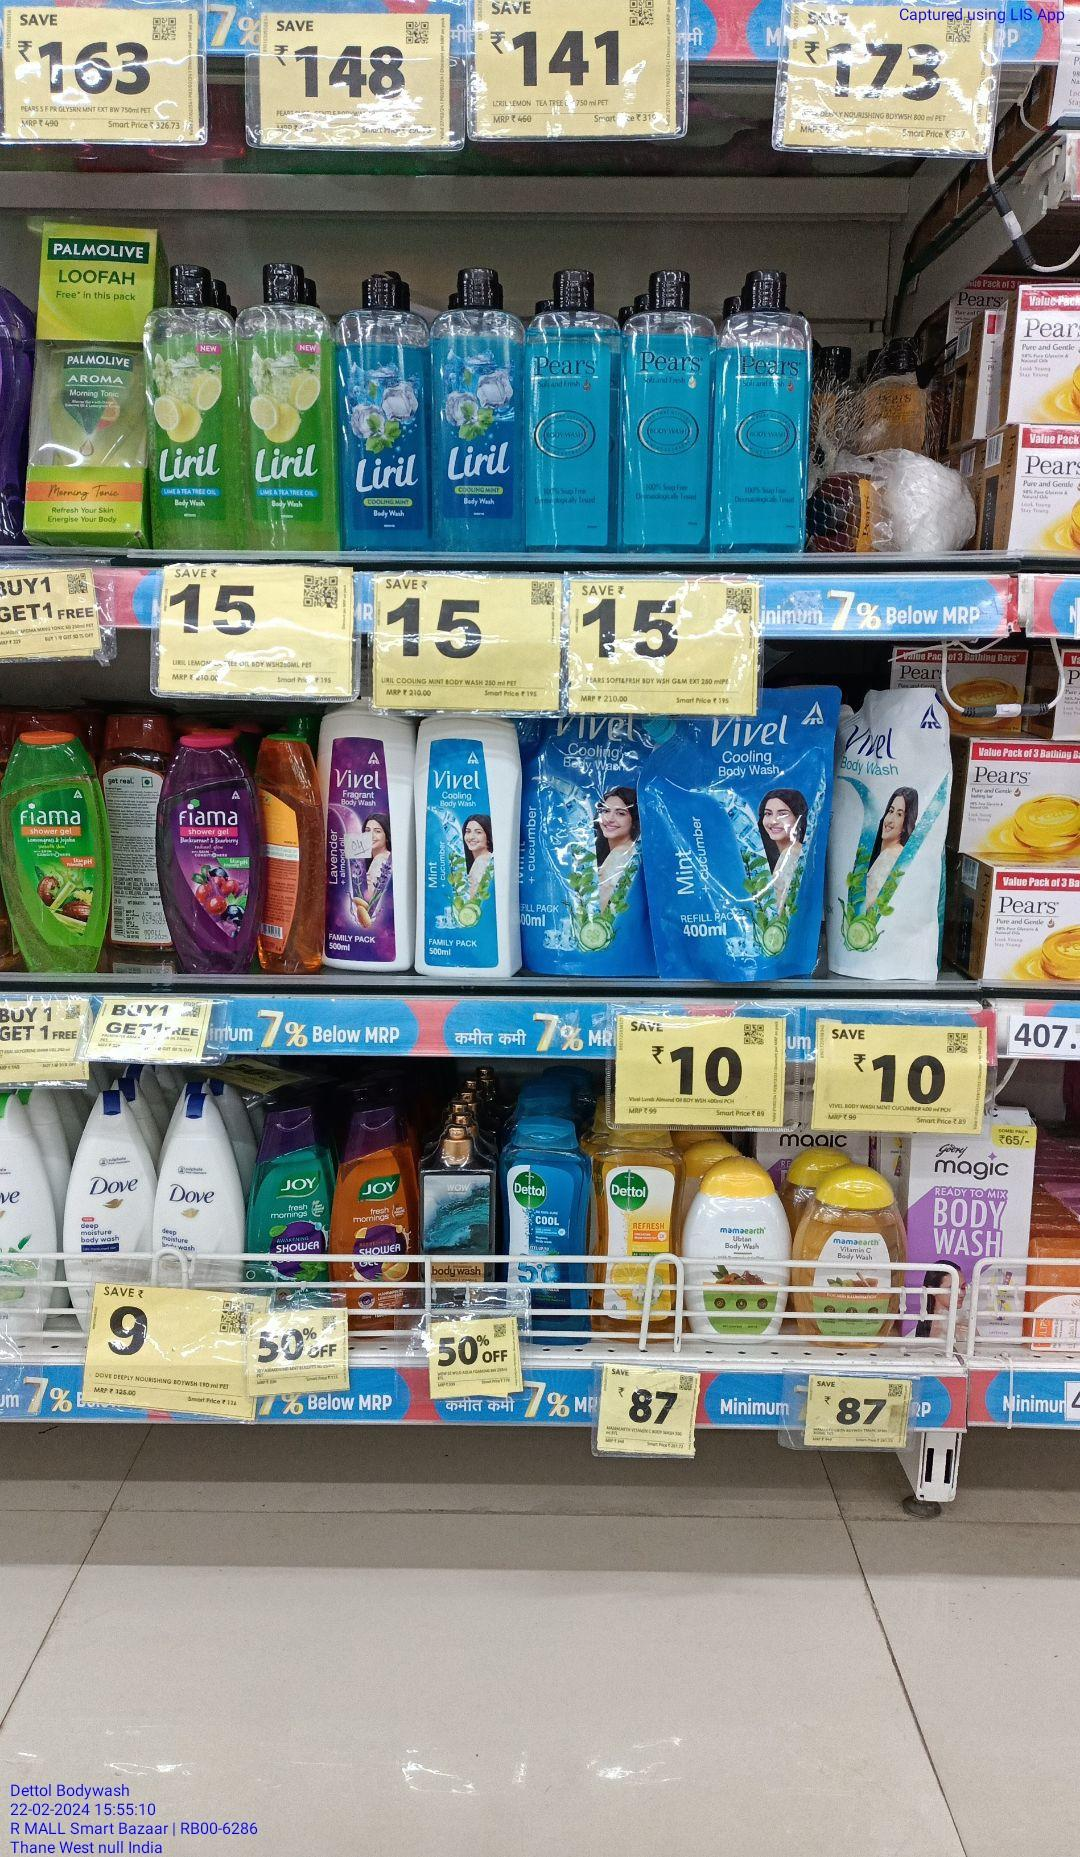Dettol_Bodywash_Cool: (504, 1112, 589, 1308)
Dettol_Bodywash_Refresh: (593, 1117, 681, 1346)
Dove_Deep_Moisture_Body_Wash_250ML: (59, 1097, 152, 1279), (156, 1095, 240, 1283)
Dove_Refreshing_Body_Wash_250ML: (0, 1095, 55, 1349)
Fiama_Shower_Gel_Lemongrass_and_Jojoba_250ML: (6, 726, 116, 975)
Joy_Shower_Gel_Mandarin_and_Lemongrass_250ML: (334, 1112, 426, 1315)
Joy_Shower_Gel_Mint_and_Eucalyptus_250ML: (249, 1112, 327, 1280)
